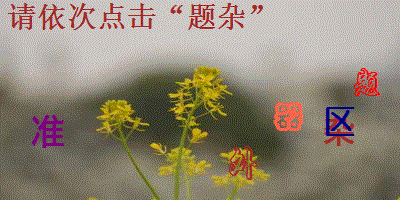text: (29, 113, 66, 150), (323, 105, 356, 138), (323, 115, 355, 149), (228, 146, 258, 182), (272, 101, 304, 134), (353, 66, 382, 97)
